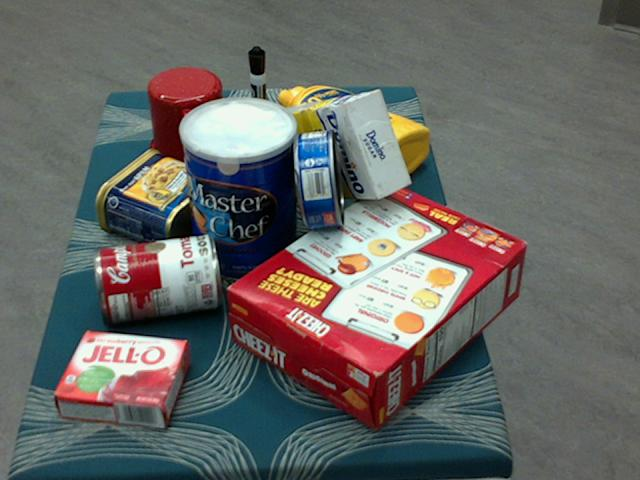cracker_box: (226, 180, 527, 428)
gelatin_box: (54, 329, 189, 427)
large_marker: (247, 46, 269, 150)
master_chef_can: (178, 99, 297, 284)
mug: (146, 68, 232, 169)
mustard_bottle: (277, 85, 428, 186)
potted_meat_can: (95, 149, 224, 251)
sugar_box: (263, 91, 410, 200)
tomato_soup_can: (93, 235, 219, 322)
tuna_fish_can: (294, 128, 344, 227)
